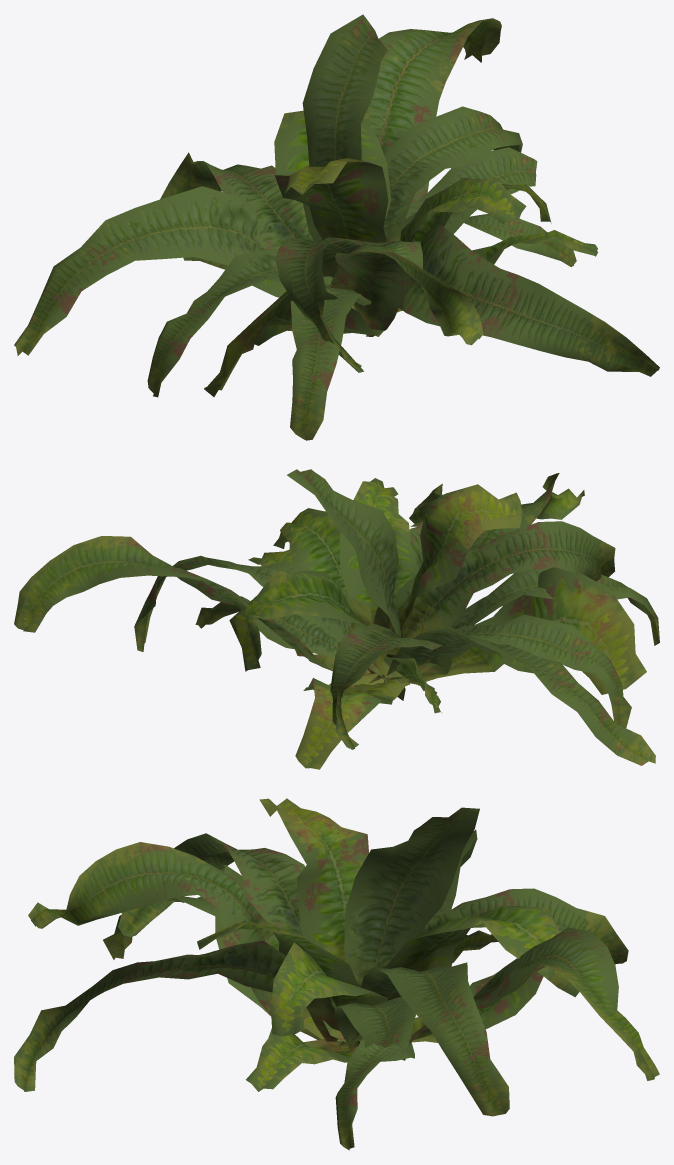
File: helecho.glb
3 views of the same model, one above another, from view 1: azimuth 30°, elevation 25°; view 2: azimuth 150°, elevation 25°; view 3: azimuth 270°, elevation 25° (orthographic). The views are drawn at different scales.
Visible parts, largest first — view 1: fern_02_b; view 2: fern_02_b; view 3: fern_02_b.
Boxes of the visible parts, bbox=[...] form: fern_02_b: bbox=[14, 14, 659, 440]; fern_02_b: bbox=[14, 469, 659, 769]; fern_02_b: bbox=[14, 798, 659, 1150].
Bounding box in the file's own units: 0.9897 × 0.4277 × 0.8937.
1 material, 1 textured.
